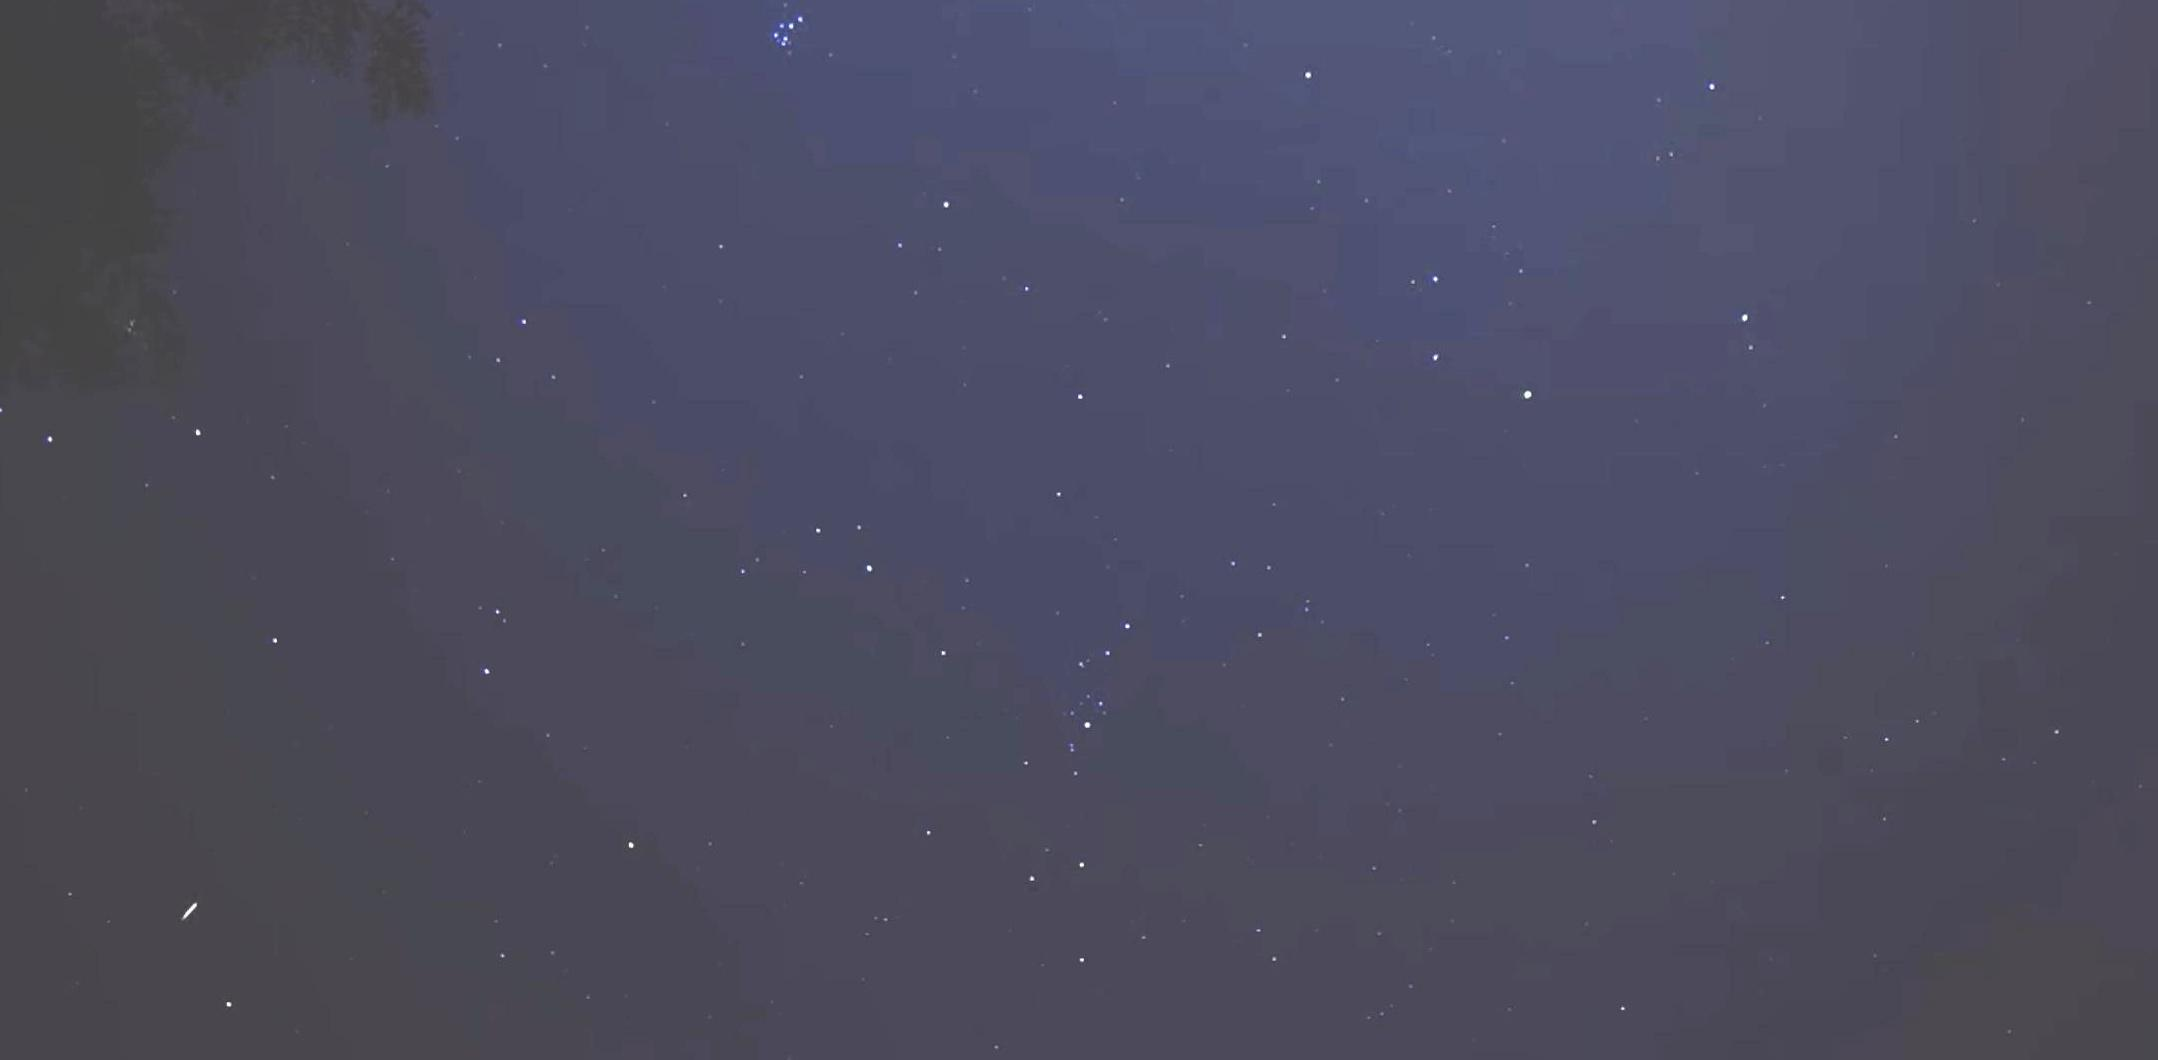meteorite: (161, 878, 227, 940)
